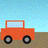vehicle: (1, 21, 34, 44)
